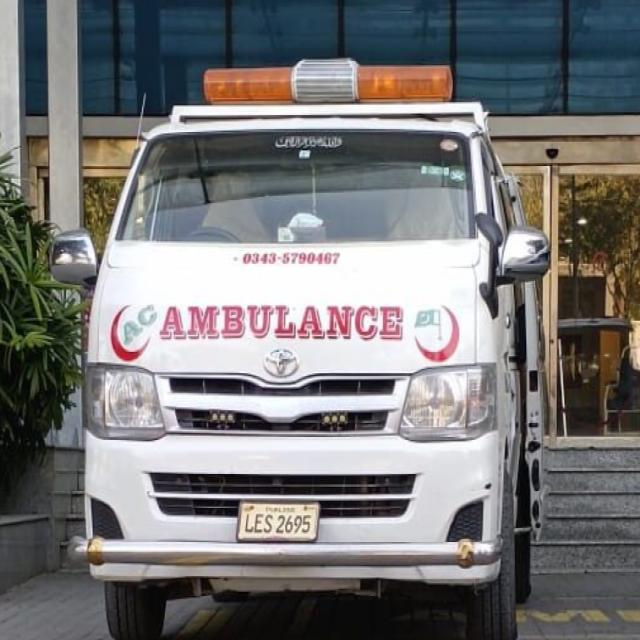ambulance: (97, 70, 520, 620)
